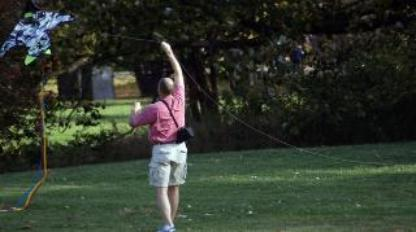person: (126, 39, 194, 232)
